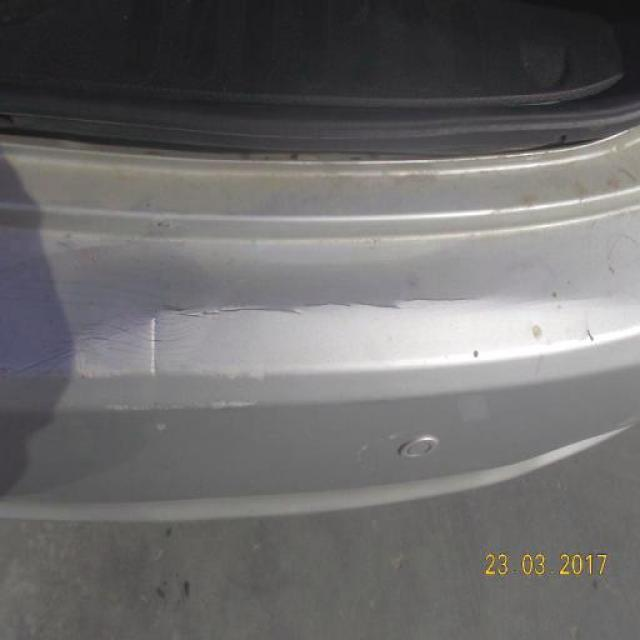car damage: (7, 281, 499, 381)
